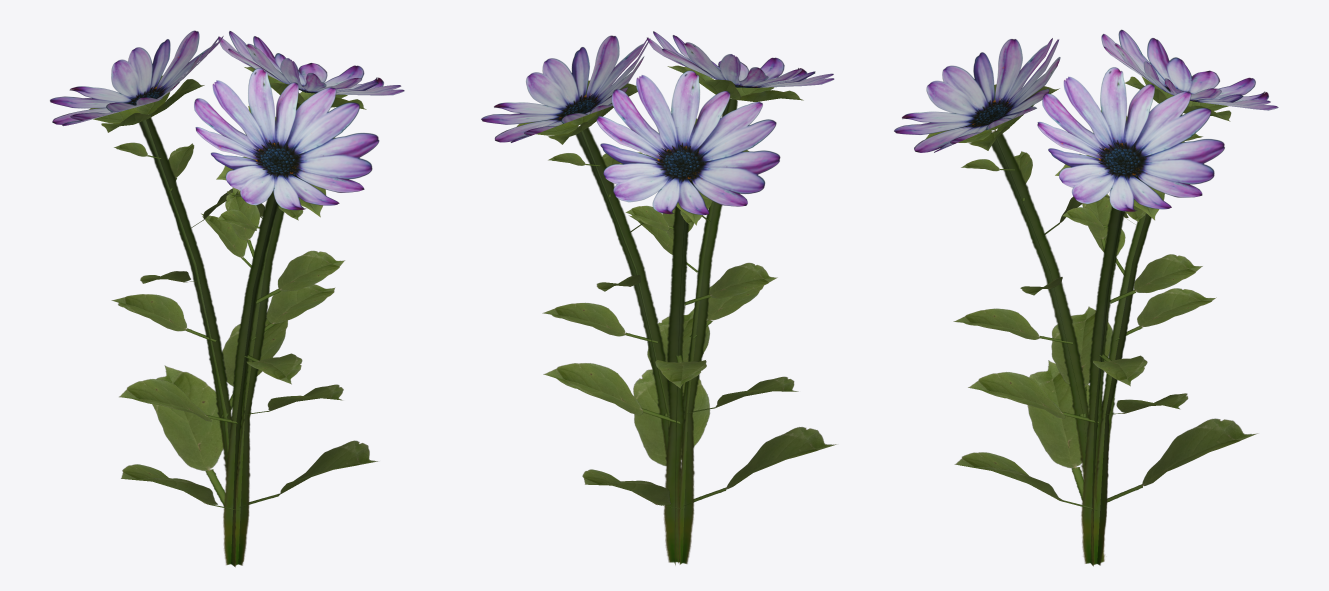
Rendered from flower3.gltf.
3 renders of one model, left to right at view 1: azimuth 30°, elevation 25°; view 2: azimuth 150°, elevation 25°; view 3: azimuth 270°, elevation 25°, orthographic.
Visible parts, largest first — view 1: VioletFlower_2; view 2: VioletFlower_2; view 3: VioletFlower_2.
Part boxes in pixels (x1,y1,x2,y2): VioletFlower_2: (50, 30, 404, 567); VioletFlower_2: (481, 31, 836, 565); VioletFlower_2: (894, 29, 1278, 566).
Size of the model in its own units: 0.2284 by 0.308 by 0.2323.
Materials: 1 (1 with a texture image).
